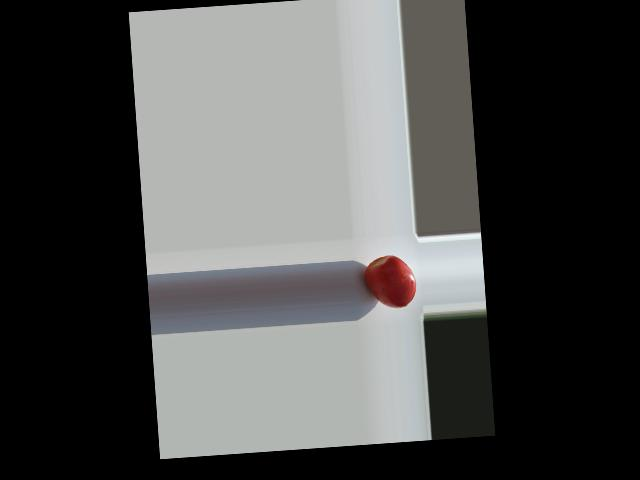tomato: (363, 254, 417, 310)
